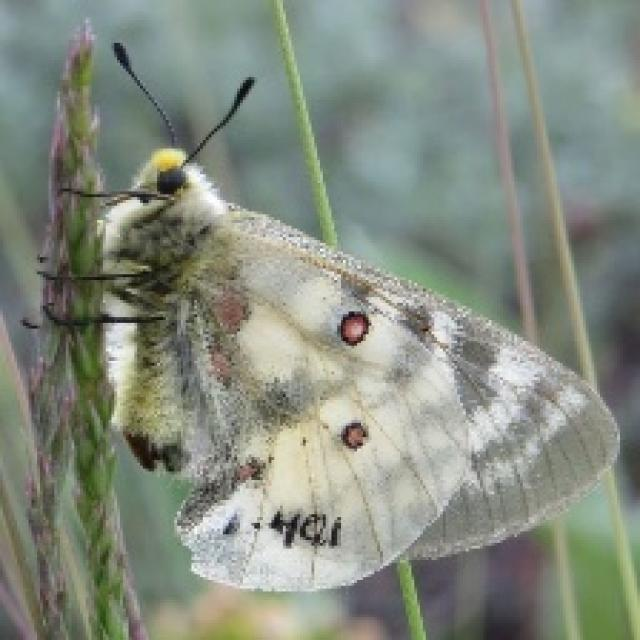butterfly: (29, 37, 620, 594)
